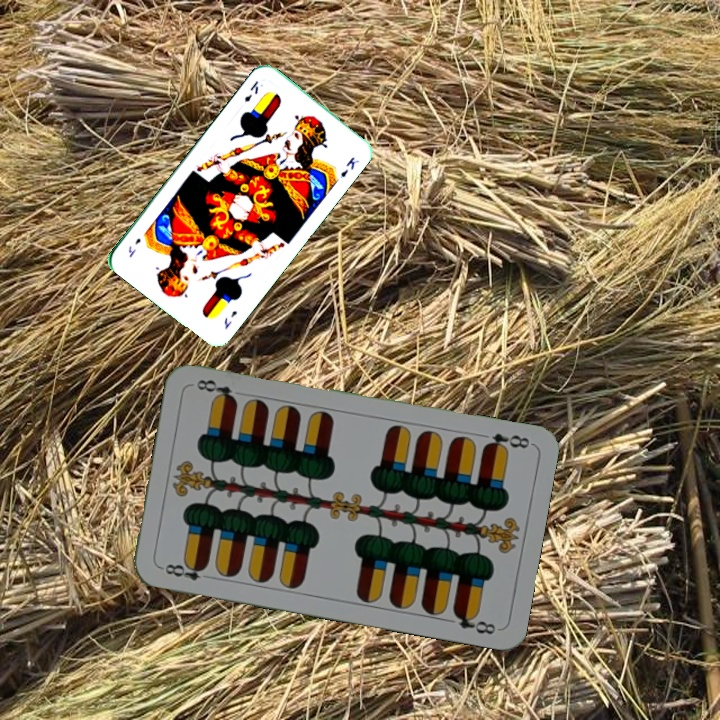E8: (157, 558, 210, 583), (479, 429, 532, 454)
EK: (240, 77, 261, 105), (220, 306, 240, 332)
